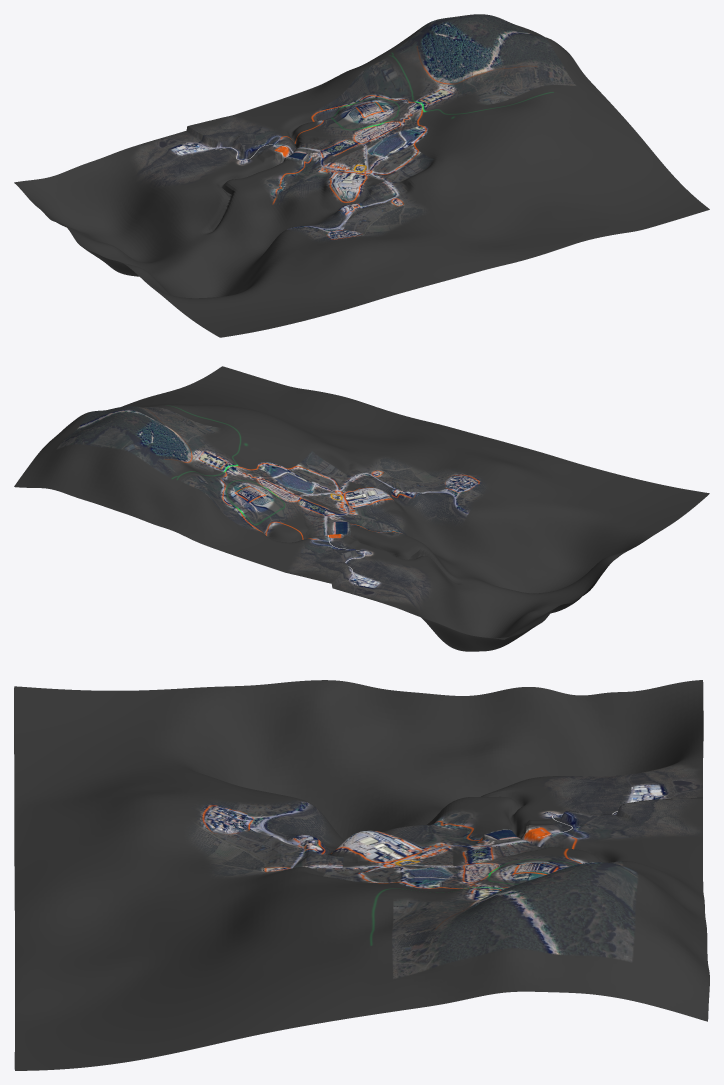
File: Entorno_24_Ago_2024.fbx
The picture shows the model from 3 angles, top to bottom: view 1: azimuth 30°, elevation 25°; view 2: azimuth 150°, elevation 25°; view 3: azimuth 270°, elevation 25°; orthographic projection. The views are drawn at different scales.
Visible parts, largest first — view 1: Plane; view 2: Plane; view 3: Plane.
Boxes of the visible parts, left/top/right/bottom form: Plane: left=14, top=14, right=709, bottom=337; Plane: left=14, top=366, right=709, bottom=651; Plane: left=14, top=680, right=709, bottom=1070.
Bounding box in the file's own units: 399609 × 112737 × 290363.
